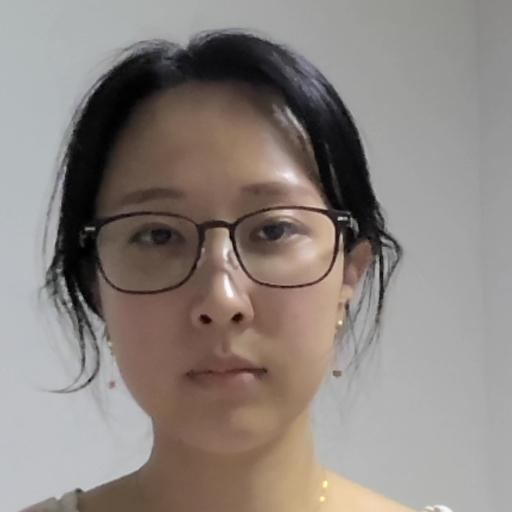no_glasses: (38, 31, 388, 455)
